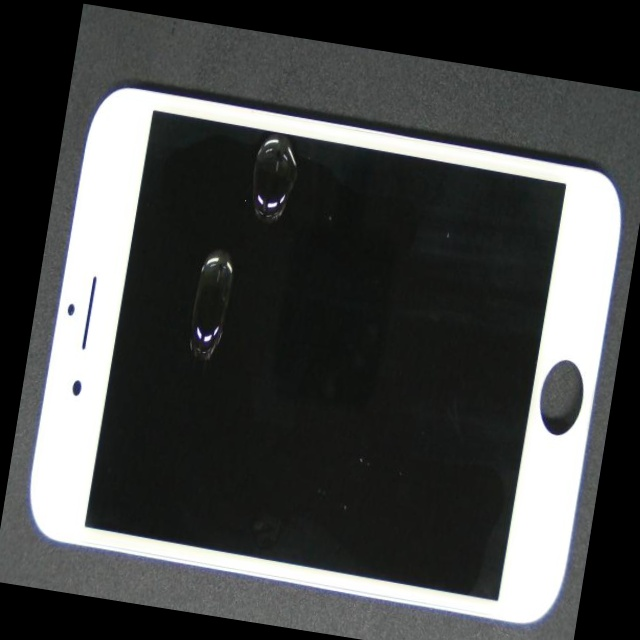oil: (137, 145, 335, 389), (143, 90, 355, 265)
